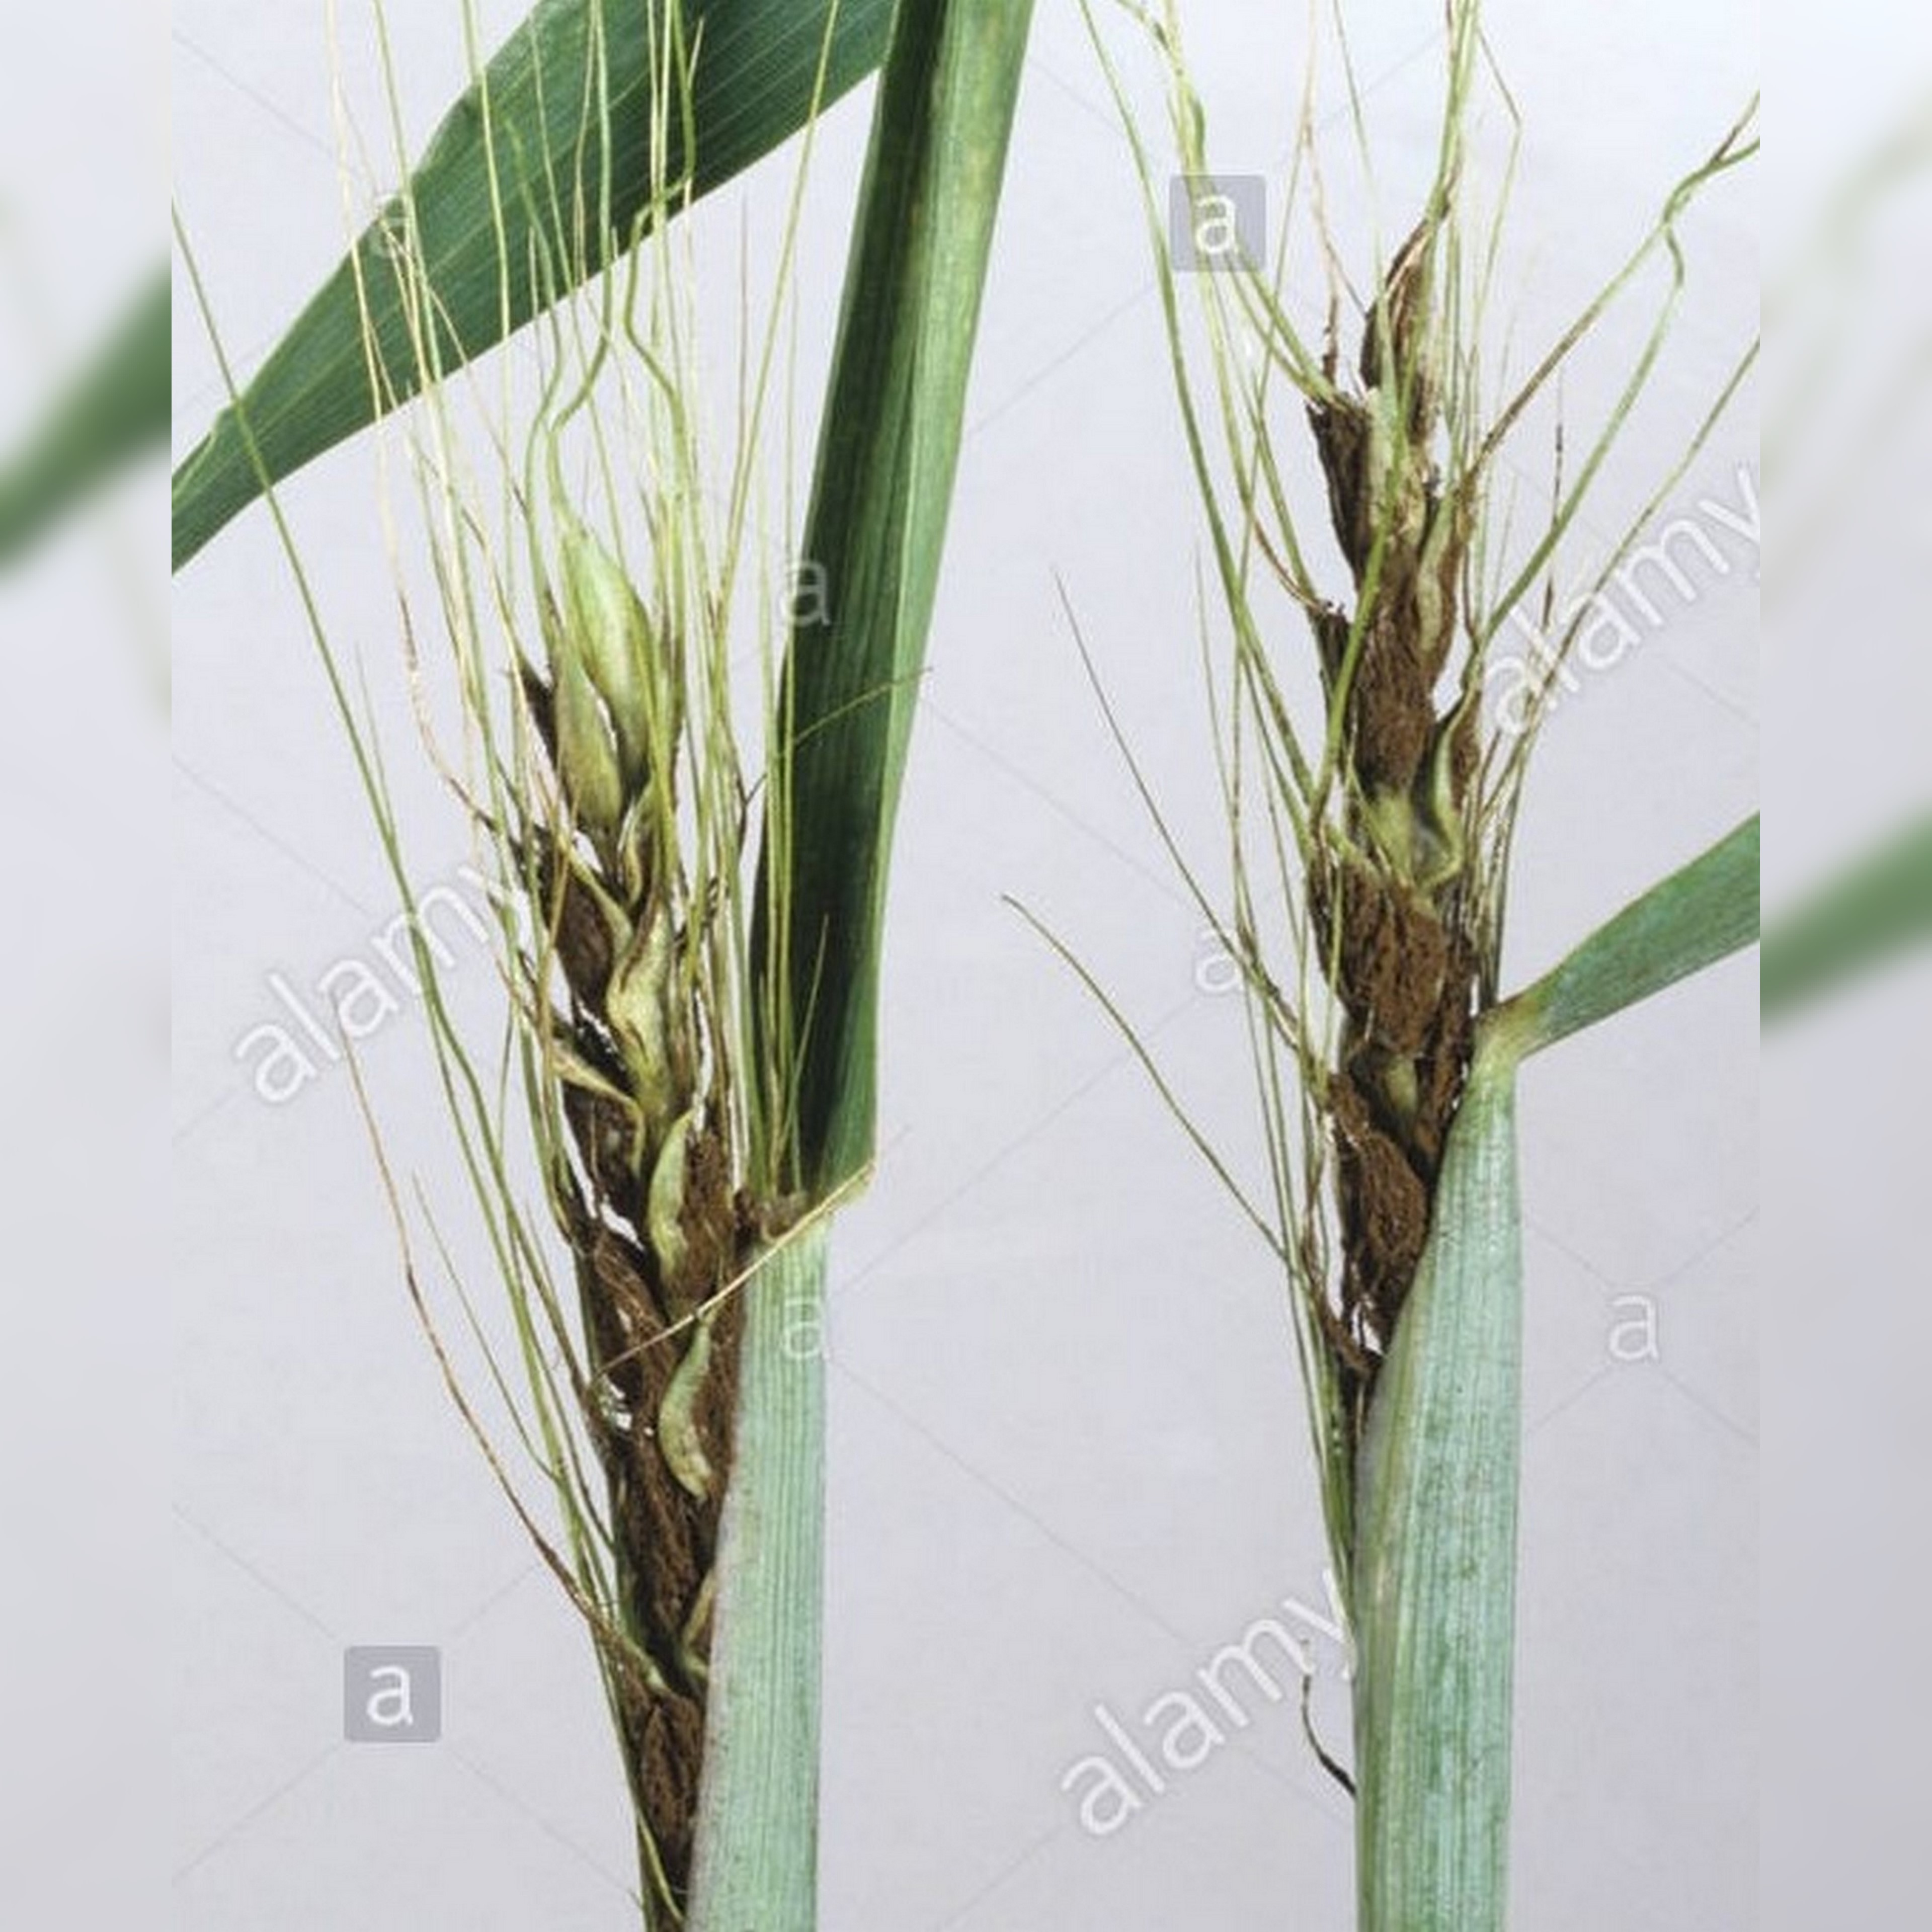Wheat Loose Smut: (448, 832, 855, 1884), (1214, 326, 1546, 1399)
